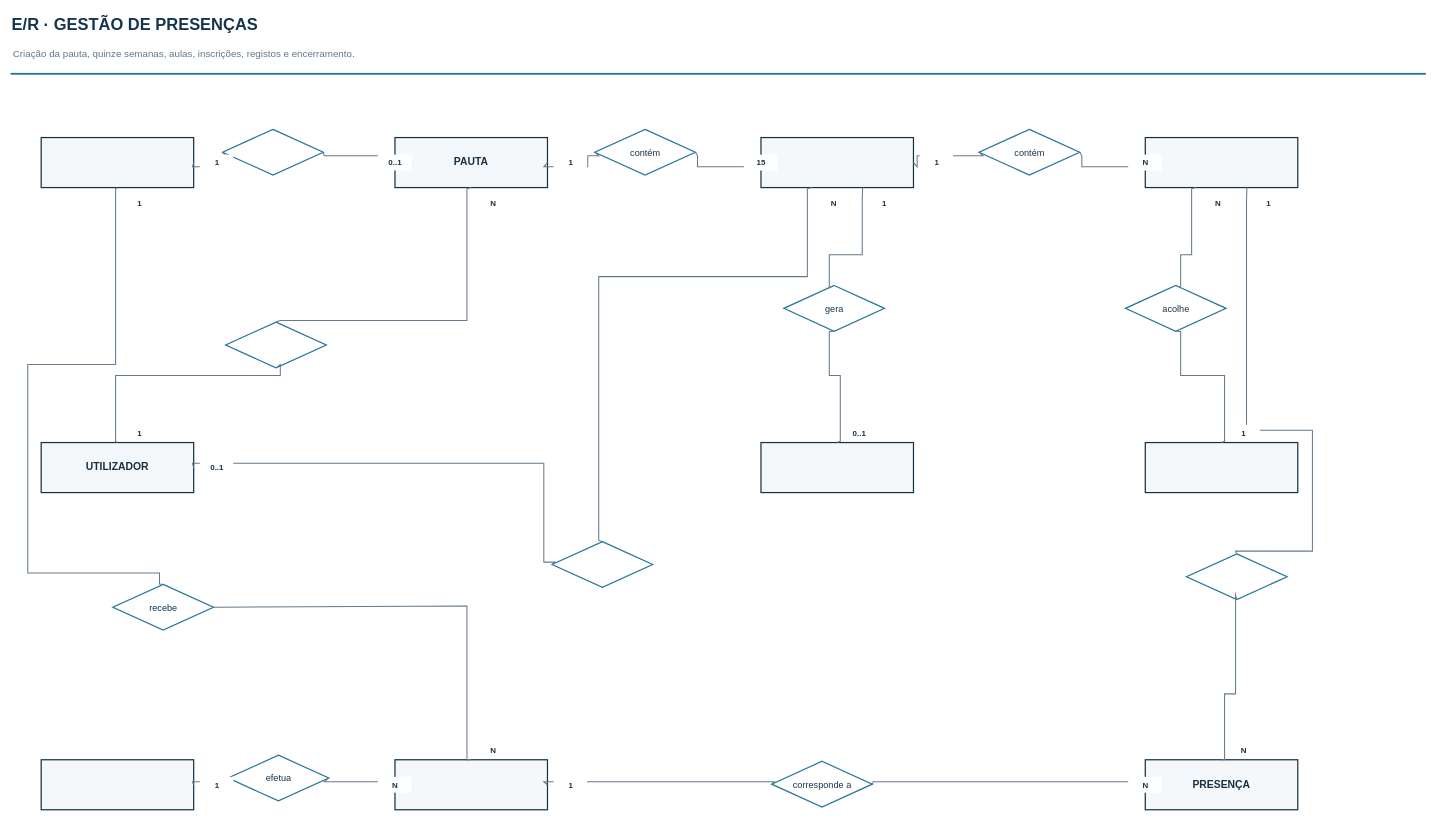
The diagram is 1436 pixels wide and 820 high, and some of its shapes have lost their labels. The shapes that lost their labels are listed below. From the top down, each one's centre as x and y in pixels, then its label:
At pixel 117 162: "TURMA".
At pixel 273 151: "tem".
At pixel 837 162: "SEMANA".
At pixel 1221 162: "AULA".
At pixel 276 344: "cria".
At pixel 837 467: "HISTÓRICO SEMANAL".
At pixel 1221 467: "SALA".
At pixel 602 564: "encerra".
At pixel 1236 576: "regista".
At pixel 117 784: "ALUNO".
At pixel 471 784: "INSCRIÇÃO".
